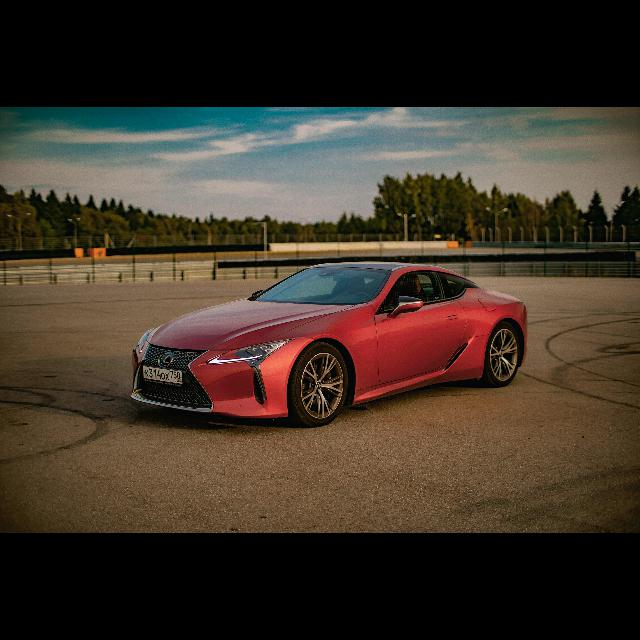cars: (125, 254, 533, 432)
